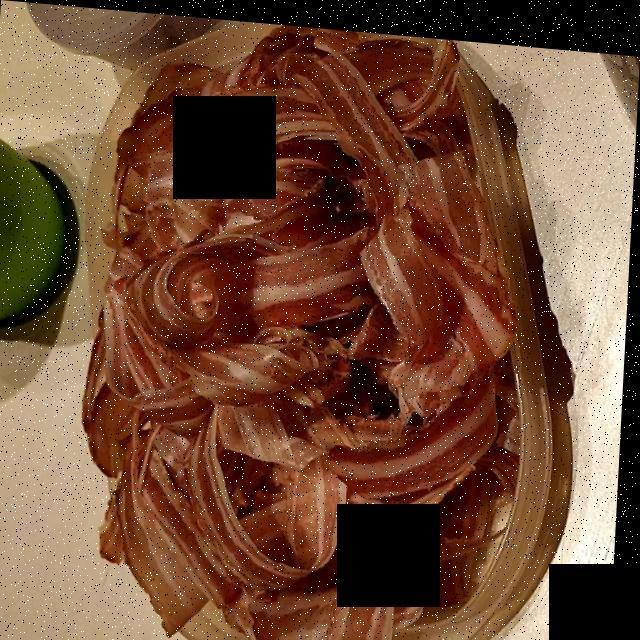bacon: (93, 39, 519, 640)
